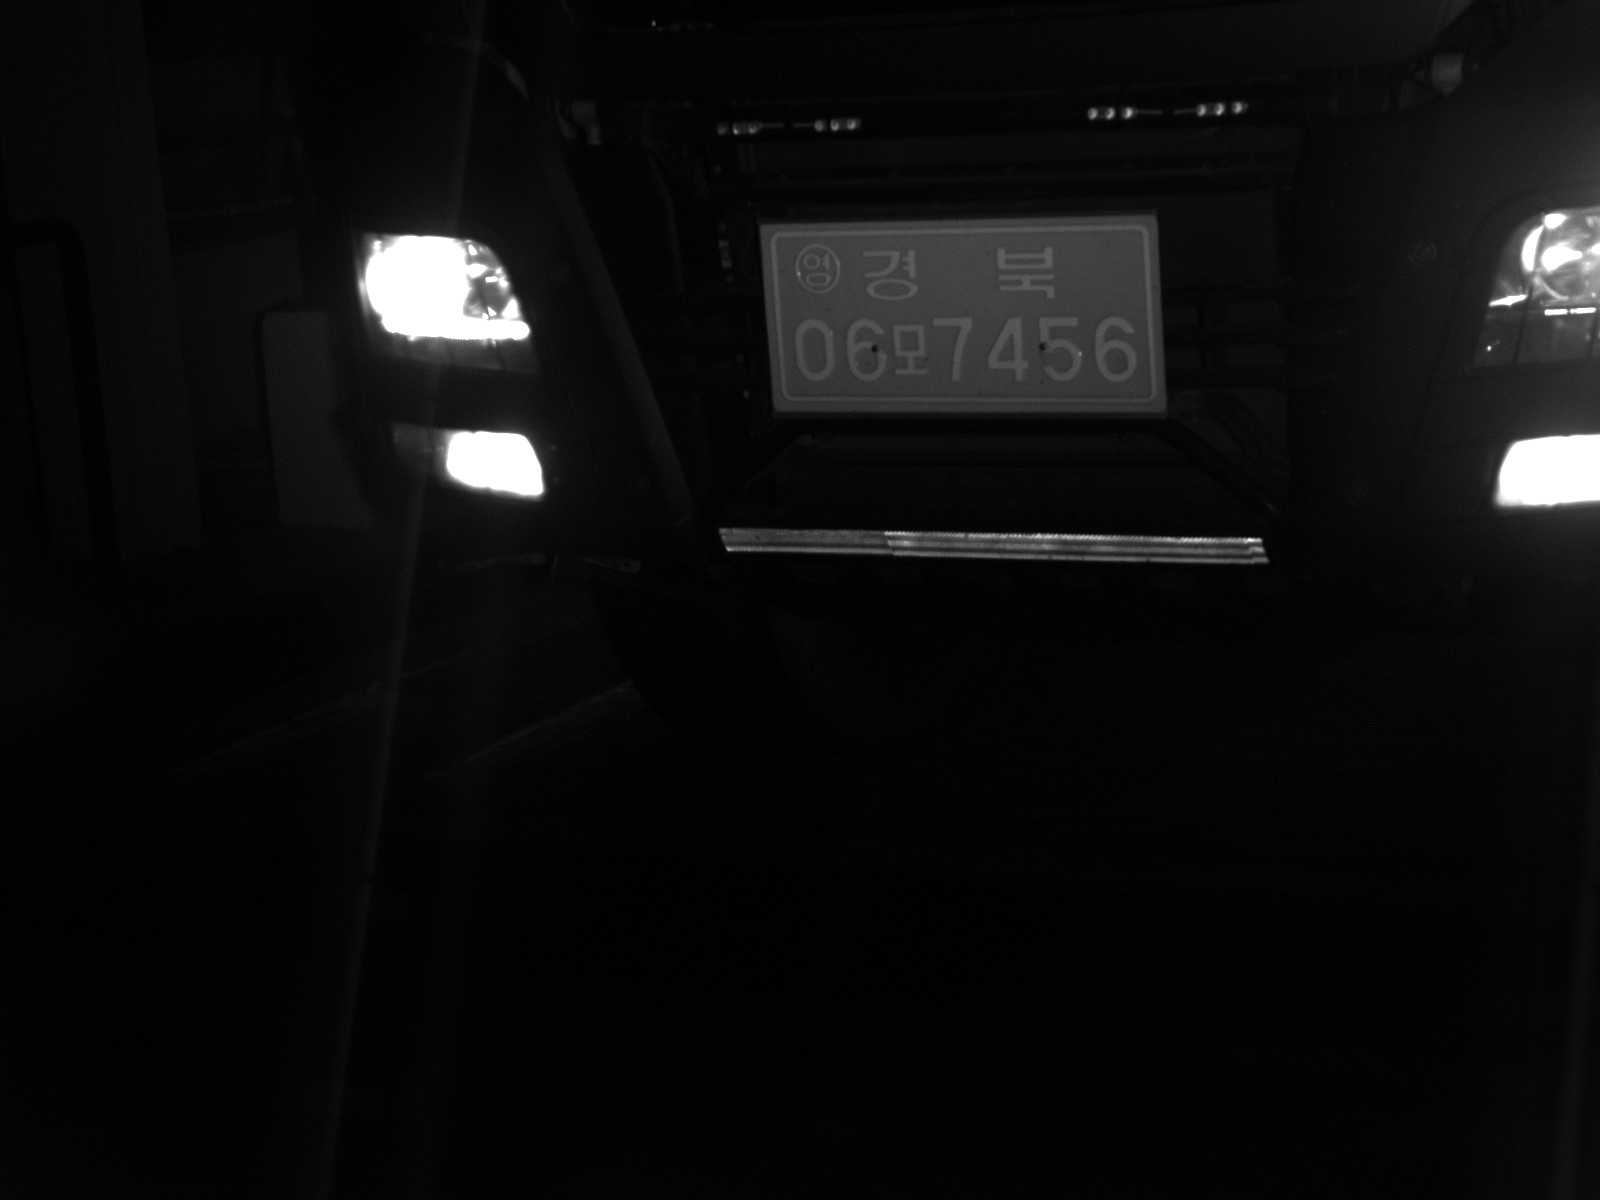car: (315, 1, 1600, 735)
plate: (759, 213, 1165, 412)
